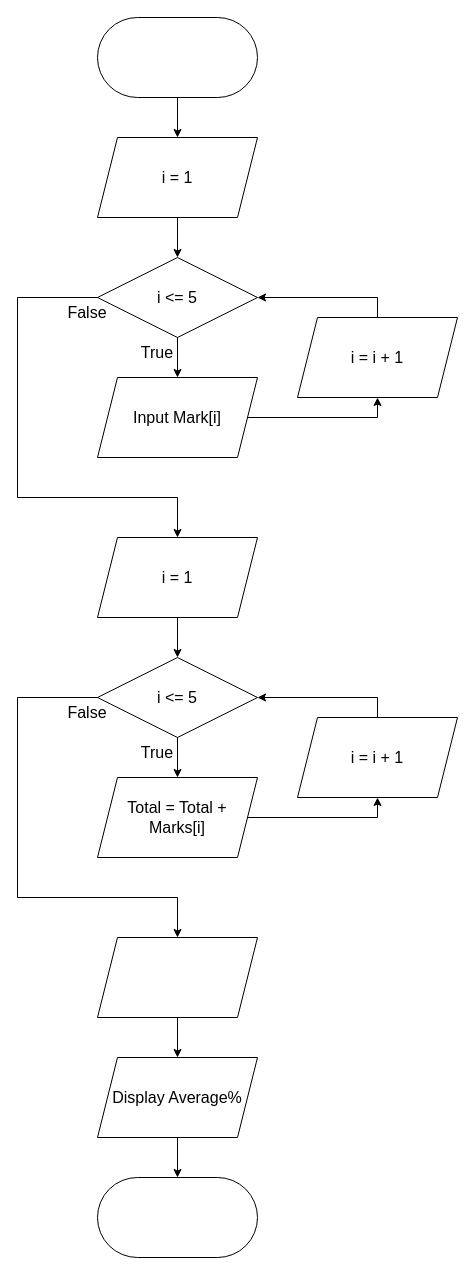
Image size: 475x1275. Some labels were removed from this diagram. Here are the shapes that lost their labels. From the top down, the box of each, then its label:
(96, 16, 258, 98): Begin
(96, 936, 258, 1018): Average = total / 500
(96, 1176, 258, 1258): Finish
